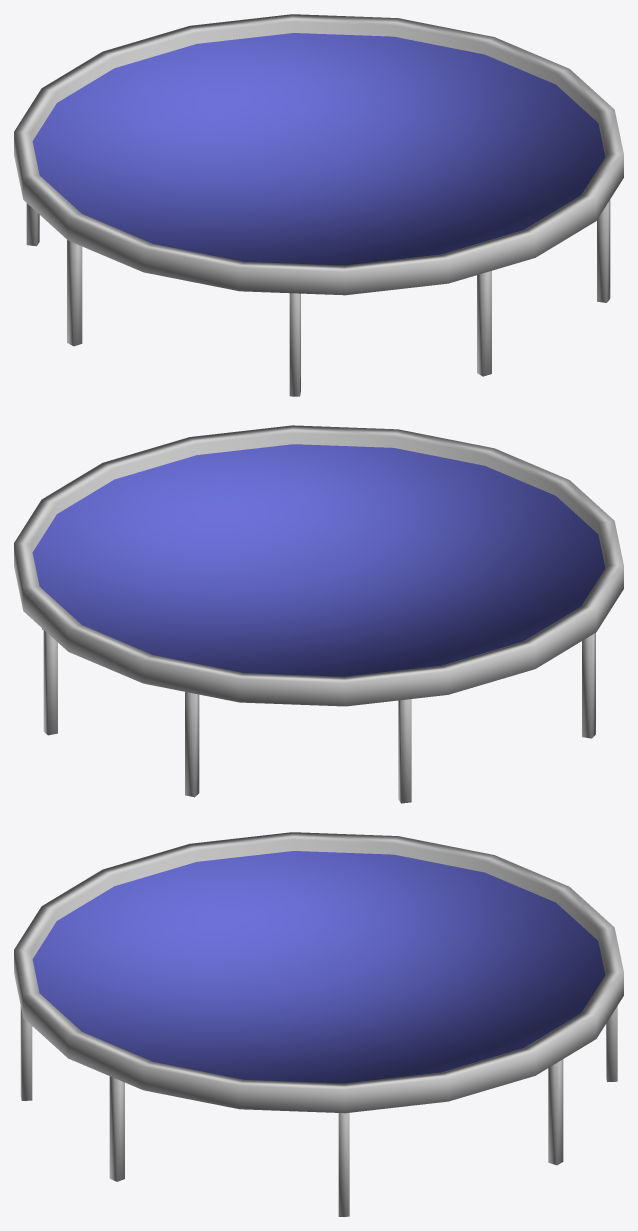
Rendered from skyboard.fbx.
3 renders of one model, top to bottom at view 1: azimuth 30°, elevation 25°; view 2: azimuth 150°, elevation 25°; view 3: azimuth 270°, elevation 25°, orthographic.
Visible parts, largest first — view 1: Circle.001; view 2: Circle.001; view 3: Circle.001.
Part boxes in pixels (x1,y1,x2,y2): Circle.001: [14, 14, 623, 396]; Circle.001: [14, 425, 623, 803]; Circle.001: [14, 832, 623, 1216].
Size of the model in its own units: 20 by 4.63 by 20.
